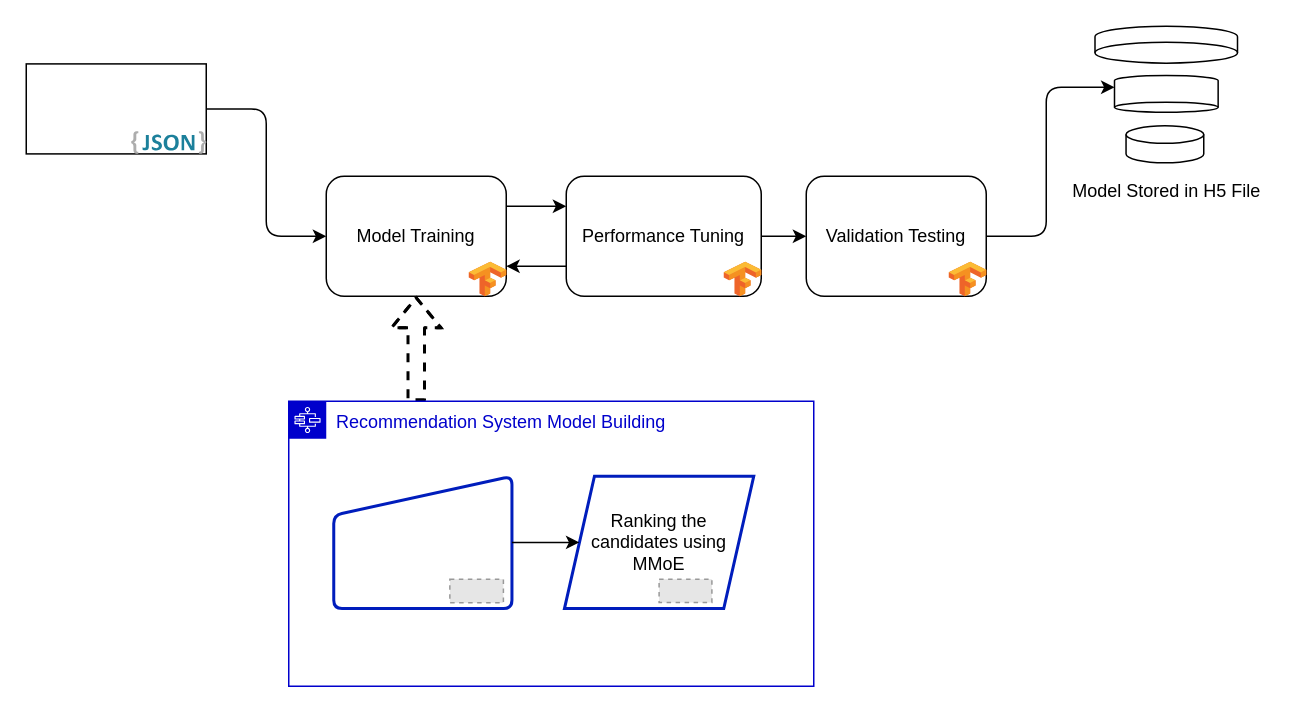
The diagram is 1298 pixels wide and 713 high, and some of its shapes have lost their labels. Grey dashed boxes stand in for pictures. The shapes that lost their labels are listed below. From the top down, each one's box as (x1, y1, x2, y2) in pixels, then its label:
(25, 62, 206, 154): Dataset Corpus
(332, 474, 513, 609): Candidate List Generation using Cosine Similarity
